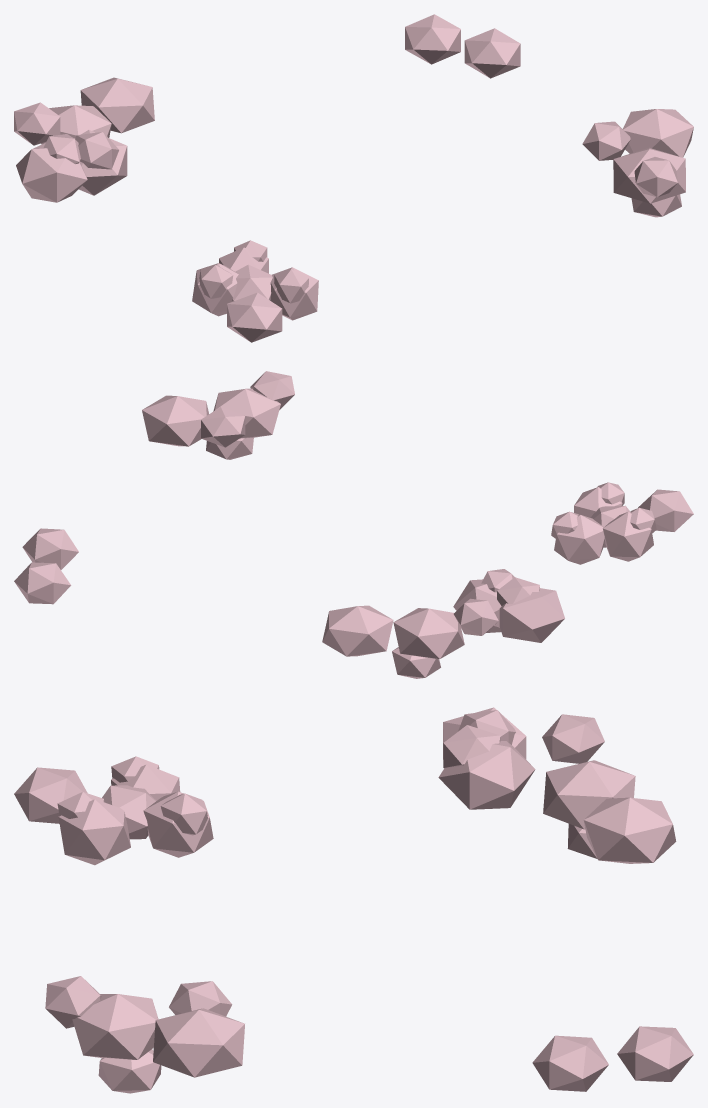
The model's file is blossom_terrace_wind_canopies.fbx.
3 views of the same model, one above another, from view 1: azimuth 30°, elevation 25°; view 2: azimuth 150°, elevation 25°; view 3: azimuth 270°, elevation 25° (orthographic). The views are drawn at different scales.
Visible parts, largest first — view 1: chunk_blossom_terrace__tree_canopy_16, chunk_blossom_terrace__tree_canopy_01, chunk_blossom_terrace__tree_canopy_23, chunk_blossom_terrace__tree_canopy_22, chunk_blossom_terrace__tree_canopy_19, chunk_blossom_terrace__tree_canopy_05, chunk_blossom_terrace__tree_canopy_20, chunk_blossom_terrace__tree_canopy_03, chunk_blossom_terrace__tree_canopy_10, chunk_blossom_terrace__tree_canopy_18, chunk_blossom_terrace__tree_canopy_17, chunk_blossom_terrace__tree_canopy_08 (+9 smaller); view 2: chunk_blossom_terrace__tree_canopy_16, chunk_blossom_terrace__tree_canopy_10, chunk_blossom_terrace__tree_canopy_23, chunk_blossom_terrace__tree_canopy_01, chunk_blossom_terrace__tree_canopy_20, chunk_blossom_terrace__tree_canopy_19, chunk_blossom_terrace__tree_canopy_11, chunk_blossom_terrace__tree_canopy_06, chunk_blossom_terrace__tree_canopy_22, chunk_blossom_terrace__tree_canopy_05, chunk_blossom_terrace__tree_canopy_18, chunk_blossom_terrace__tree_canopy_03 (+10 smaller); view 3: chunk_blossom_terrace__tree_canopy_23, chunk_blossom_terrace__tree_canopy_16, chunk_blossom_terrace__tree_canopy_20, chunk_blossom_terrace__tree_canopy_08, chunk_blossom_terrace__tree_canopy_10, chunk_blossom_terrace__tree_canopy_15, chunk_blossom_terrace__tree_canopy_22, chunk_blossom_terrace__tree_canopy_19, chunk_blossom_terrace__tree_canopy_05, chunk_blossom_terrace__tree_canopy_03, chunk_blossom_terrace__tree_canopy_11, chunk_blossom_terrace__tree_canopy_21 (+11 smaller).
Part boxes in pixels (left/top/right/bottom): chunk_blossom_terrace__tree_canopy_16: left=80, top=77, right=154, bottom=133; chunk_blossom_terrace__tree_canopy_01: left=16, top=142, right=87, bottom=202; chunk_blossom_terrace__tree_canopy_23: left=623, top=109, right=693, bottom=157; chunk_blossom_terrace__tree_canopy_22: left=464, top=28, right=520, bottom=78; chunk_blossom_terrace__tree_canopy_19: left=405, top=14, right=460, bottom=64; chunk_blossom_terrace__tree_canopy_05: left=227, top=292, right=282, bottom=342; chunk_blossom_terrace__tree_canopy_20: left=613, top=148, right=685, bottom=203; chunk_blossom_terrace__tree_canopy_03: left=14, top=102, right=60, bottom=145; chunk_blossom_terrace__tree_canopy_10: left=41, top=105, right=111, bottom=144; chunk_blossom_terrace__tree_canopy_18: left=582, top=121, right=630, bottom=160; chunk_blossom_terrace__tree_canopy_17: left=634, top=157, right=677, bottom=197; chunk_blossom_terrace__tree_canopy_08: left=74, top=130, right=127, bottom=195; chunk_blossom_terrace__tree_canopy_16: left=322, top=605, right=393, bottom=656; chunk_blossom_terrace__tree_canopy_10: left=393, top=608, right=464, bottom=658; chunk_blossom_terrace__tree_canopy_23: left=142, top=395, right=208, bottom=446; chunk_blossom_terrace__tree_canopy_01: left=499, top=588, right=564, bottom=642; chunk_blossom_terrace__tree_canopy_20: left=213, top=388, right=280, bottom=438; chunk_blossom_terrace__tree_canopy_19: left=14, top=562, right=71, bottom=604; chunk_blossom_terrace__tree_canopy_11: left=554, top=515, right=604, bottom=564; chunk_blossom_terrace__tree_canopy_06: left=603, top=511, right=653, bottom=561; chunk_blossom_terrace__tree_canopy_22: left=22, top=528, right=78, bottom=569; chunk_blossom_terrace__tree_canopy_05: left=638, top=489, right=693, bottom=531; chunk_blossom_terrace__tree_canopy_18: left=201, top=407, right=245, bottom=447; chunk_blossom_terrace__tree_canopy_03: left=453, top=598, right=498, bottom=635; chunk_blossom_terrace__tree_canopy_23: left=153, top=1008, right=244, bottom=1077; chunk_blossom_terrace__tree_canopy_16: left=583, top=797, right=676, bottom=863; chunk_blossom_terrace__tree_canopy_20: left=72, top=994, right=158, bottom=1059; chunk_blossom_terrace__tree_canopy_08: left=438, top=741, right=535, bottom=809; chunk_blossom_terrace__tree_canopy_10: left=543, top=760, right=635, bottom=829; chunk_blossom_terrace__tree_canopy_15: left=58, top=799, right=130, bottom=865; chunk_blossom_terrace__tree_canopy_22: left=532, top=1035, right=608, bottom=1091; chunk_blossom_terrace__tree_canopy_19: left=617, top=1026, right=693, bottom=1081; chunk_blossom_terrace__tree_canopy_05: left=14, top=767, right=87, bottom=823; chunk_blossom_terrace__tree_canopy_03: left=542, top=714, right=604, bottom=763; chunk_blossom_terrace__tree_canopy_11: left=143, top=791, right=213, bottom=857; chunk_blossom_terrace__tree_canopy_21: left=98, top=1049, right=161, bottom=1093.
Bounding box in the file's own units: 196 × 29.79 × 167.
